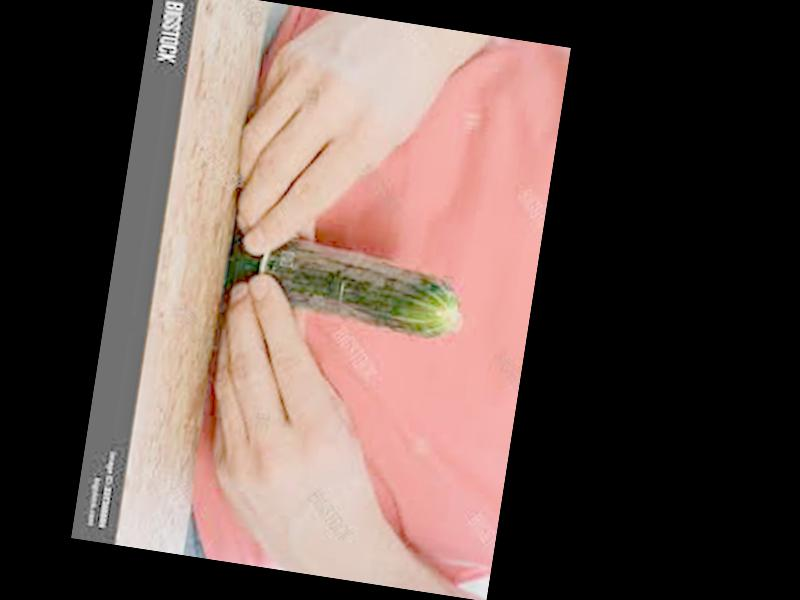Cucumber: (222, 230, 467, 343)
